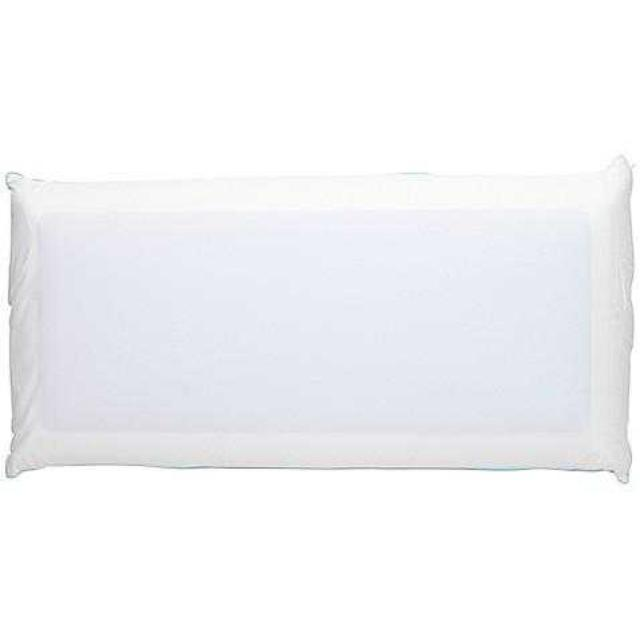pillow: (2, 153, 636, 483)
